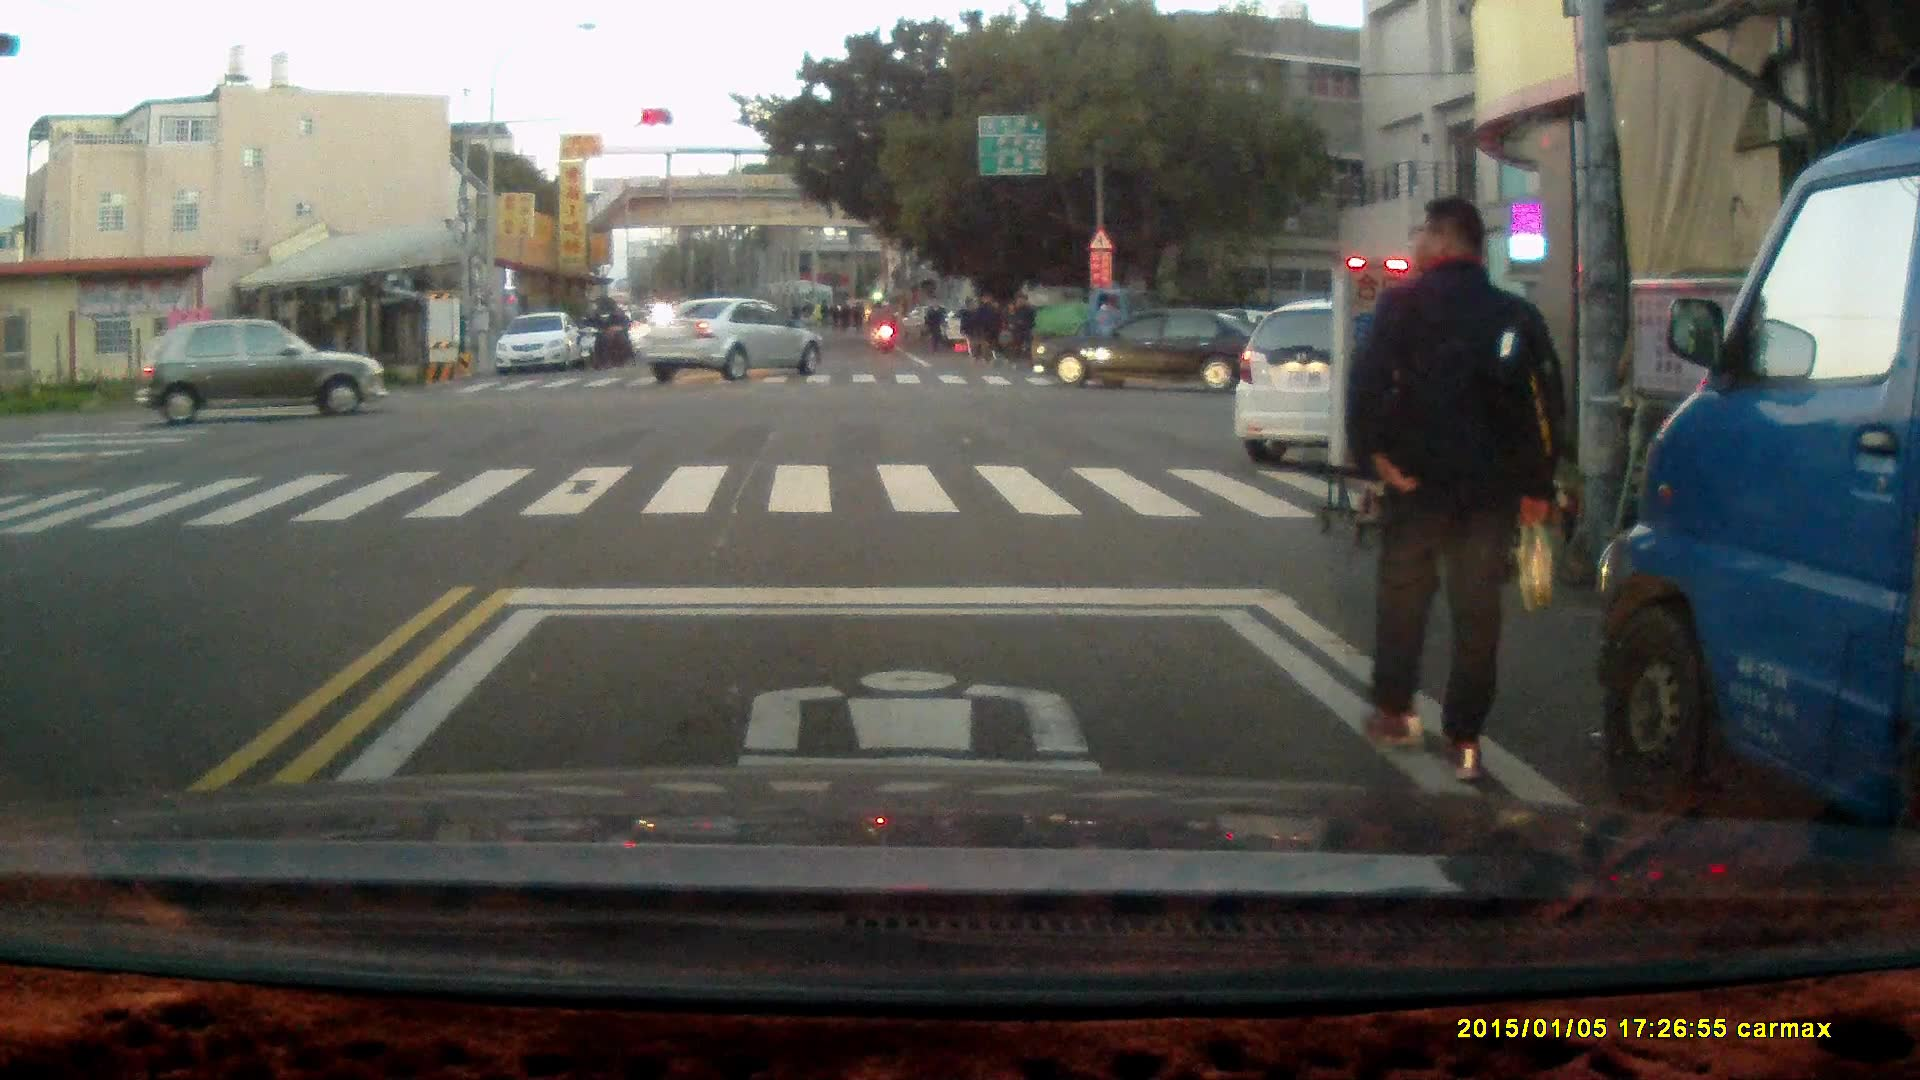pedestrian: (1341, 195, 1564, 779), (970, 290, 1001, 369), (1007, 293, 1036, 371), (925, 296, 946, 353)
rider: (576, 301, 608, 368), (603, 302, 632, 369)
vehicle: (1598, 132, 1920, 847), (1233, 296, 1533, 459), (141, 319, 387, 430), (1048, 304, 1277, 393), (630, 297, 825, 384), (1002, 284, 1179, 367), (498, 313, 586, 377)
